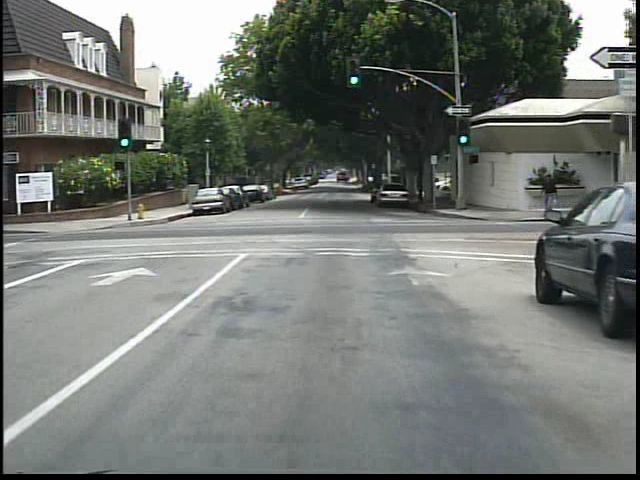person: (535, 170, 564, 223)
